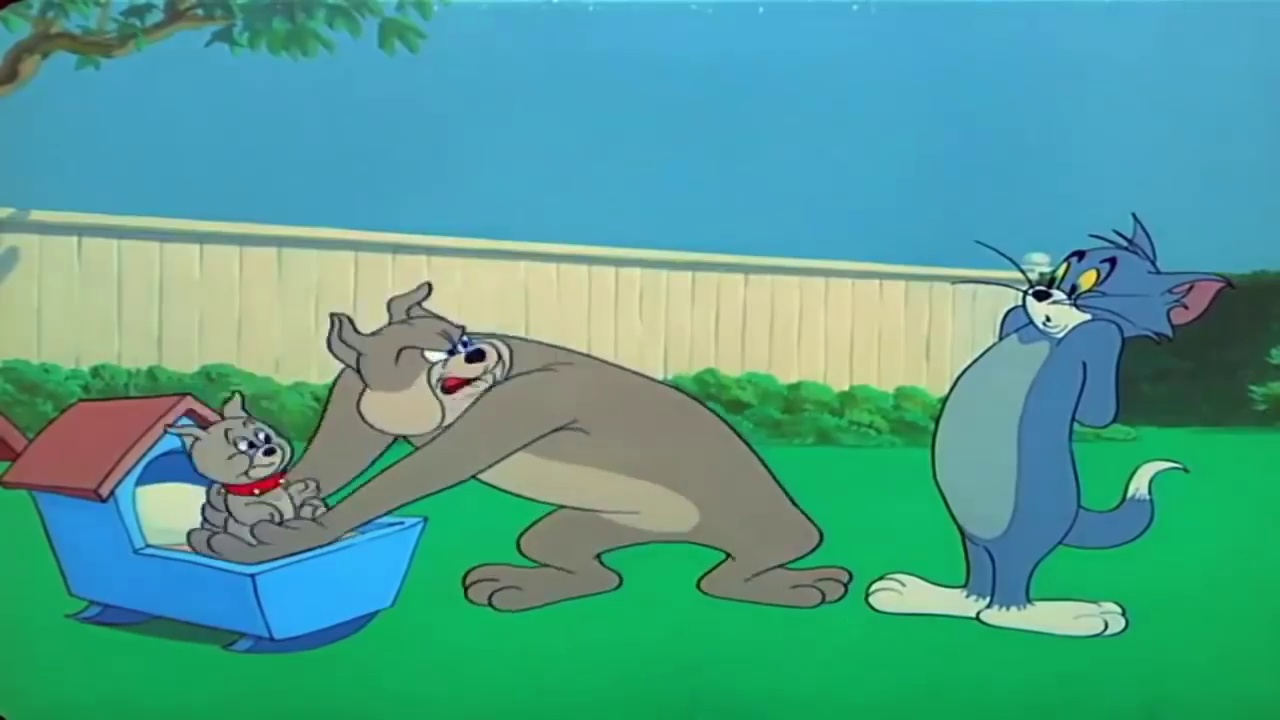spike: (326, 280, 515, 440)
tom: (1011, 211, 1242, 361)
